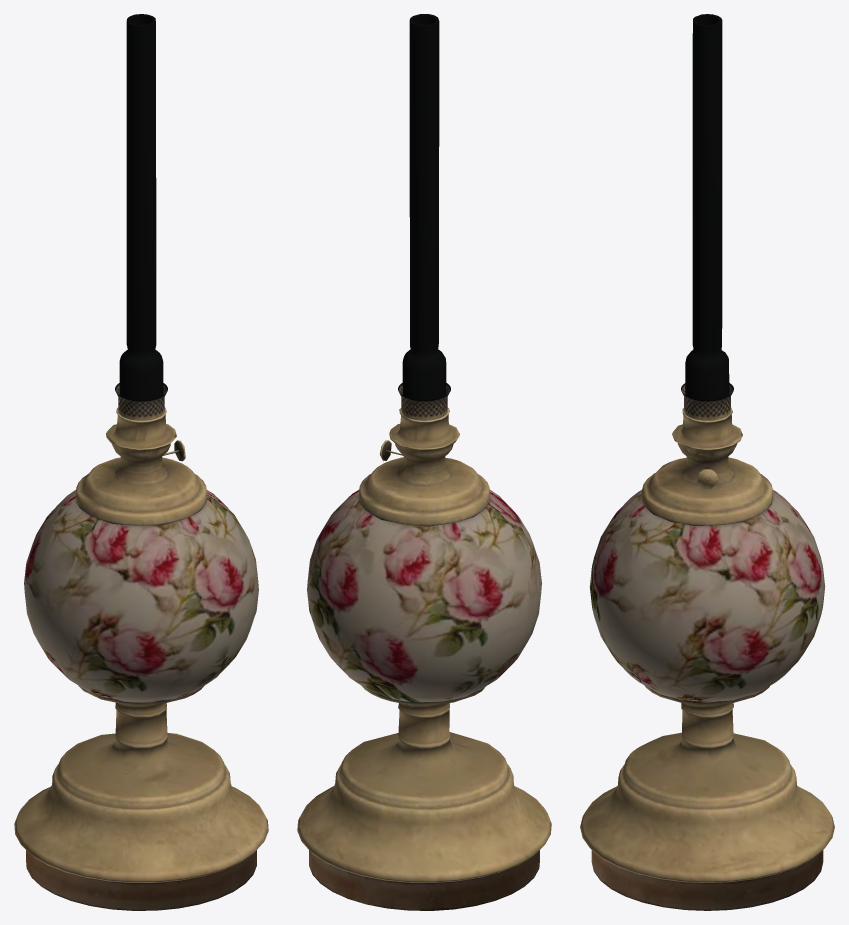
The model's file is ph_vintage_oil_lamp.glb.
3 views of the same model, side by side, from view 1: azimuth 30°, elevation 25°; view 2: azimuth 150°, elevation 25°; view 3: azimuth 270°, elevation 25° (orthographic).
Visible parts, largest first — view 1: vintage_oil_lamp, vintage_oil_lamp_glass; view 2: vintage_oil_lamp, vintage_oil_lamp_glass; view 3: vintage_oil_lamp, vintage_oil_lamp_glass.
Boxes of the visible parts, x1,y1,x2,y2 form: vintage_oil_lamp: (14, 407, 268, 910); vintage_oil_lamp_glass: (115, 14, 167, 420); vintage_oil_lamp: (297, 407, 551, 910); vintage_oil_lamp_glass: (398, 14, 450, 420); vintage_oil_lamp: (580, 407, 834, 910); vintage_oil_lamp_glass: (681, 14, 733, 420).
Bounding box in the file's own units: 0.22 × 0.8016 × 0.22.
Materials: 3 (3 with a texture image).
